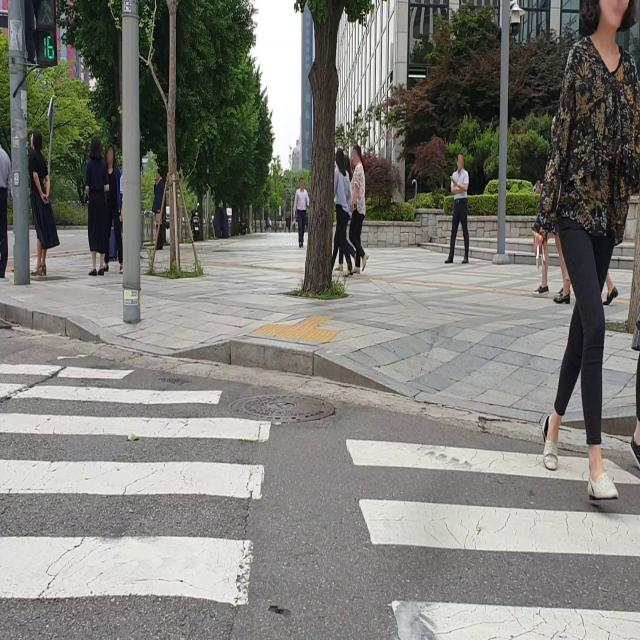횡단보도: (0, 359, 640, 640)
